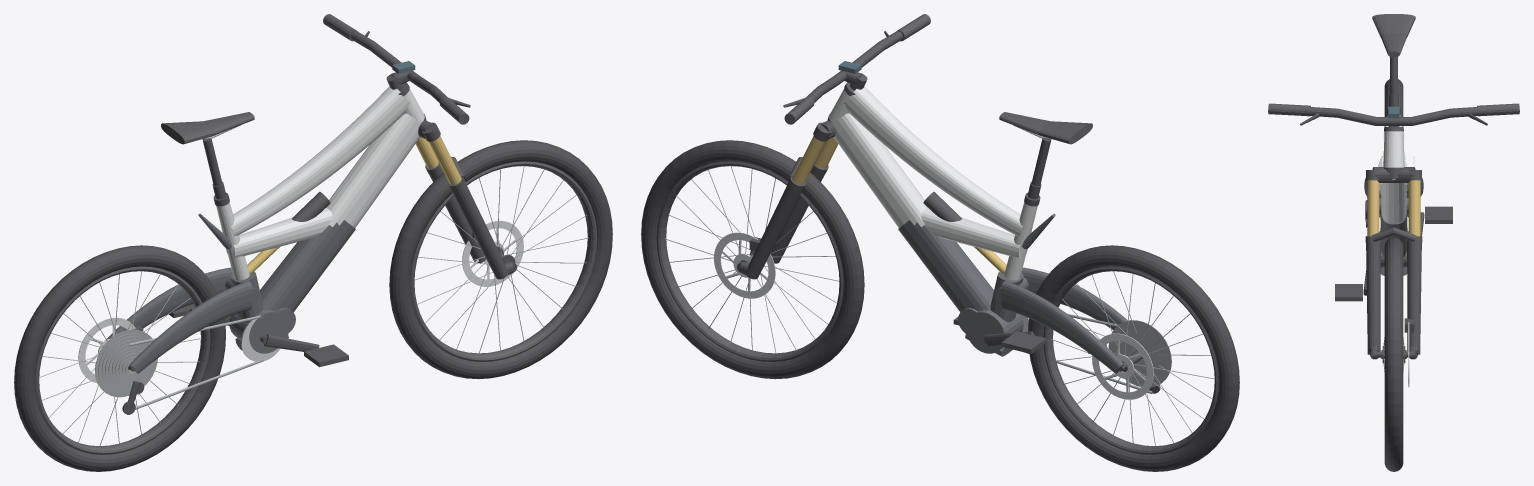
Rendered from ebike-mtb-honda-rn0.glb.
3 views of the same model, side by side, from view 1: azimuth 30°, elevation 25°; view 2: azimuth 150°, elevation 25°; view 3: azimuth 270°, elevation 25° (orthographic). The views are drawn at different scales.
Parts seen in each view (by area): view 1: front_wheel_tire, frame_monocoque_upper, rear_wheel_tire, rear_gullarm_swingarm, frame_downtube_lower_dark, front_wheel_rim, rear_wheel_rim, fork_lowers, drivetrain_cassette, front_wheel_spokes, ebike_motor_housing, rear_wheel_spokes (+9 smaller); view 2: front_wheel_tire, frame_monocoque_upper, rear_wheel_tire, rear_gullarm_swingarm, frame_downtube_lower_dark, front_wheel_rim, rear_wheel_rim, fork_lowers, drivetrain_cassette, front_wheel_spokes, rear_wheel_spokes, ebike_motor_housing (+8 smaller); view 3: front_wheel_tire, fork_lowers, cockpit_riser_bar, fork_stanchions, saddle_shell, drivetrain_crankset, frame_monocoque_upper, cockpit_grips, frame_headtube, fork_crown, frame_downtube_lower_dark, rear_wheel_tire (+1 smaller).
Part boxes in pixels (<box>): front_wheel_tire: <box>389,140,612,379</box>; frame_monocoque_upper: <box>226,86,421,258</box>; rear_wheel_tire: <box>14,245,225,471</box>; rear_gullarm_swingarm: <box>105,267,259,373</box>; frame_downtube_lower_dark: <box>230,220,355,322</box>; front_wheel_rim: <box>410,161,597,361</box>; rear_wheel_rim: <box>35,266,210,454</box>; fork_lowers: <box>425,157,517,279</box>; drivetrain_cassette: <box>95,329,157,397</box>; front_wheel_spokes: <box>415,166,588,354</box>; ebike_motor_housing: <box>229,308,295,353</box>; rear_wheel_spokes: <box>39,271,201,447</box>; front_wheel_tire: <box>641,140,864,379</box>; frame_monocoque_upper: <box>832,86,1027,258</box>; rear_wheel_tire: <box>1028,245,1239,471</box>; rear_gullarm_swingarm: <box>994,267,1127,373</box>; frame_downtube_lower_dark: <box>898,220,1023,322</box>; front_wheel_rim: <box>656,161,843,361</box>; rear_wheel_rim: <box>1043,266,1218,454</box>; fork_lowers: <box>736,157,828,279</box>; drivetrain_cassette: <box>1108,320,1171,387</box>; front_wheel_spokes: <box>664,166,839,353</box>; rear_wheel_spokes: <box>1051,271,1214,446</box>; ebike_motor_housing: <box>958,308,1023,356</box>; front_wheel_tire: <box>1384,237,1403,471</box>; fork_lowers: <box>1365,227,1422,359</box>; cockpit_riser_bar: <box>1268,107,1519,125</box>; fork_stanchions: <box>1367,180,1420,236</box>; saddle_shell: <box>1372,14,1415,56</box>; drivetrain_crankset: <box>1335,206,1452,301</box>; frame_monocoque_upper: <box>1381,126,1406,223</box>; cockpit_grips: <box>1268,103,1519,116</box>; frame_headtube: <box>1383,131,1404,167</box>; fork_crown: <box>1366,167,1421,182</box>; frame_downtube_lower_dark: <box>1380,206,1407,256</box>; rear_wheel_tire: <box>1384,79,1403,126</box>.
Bounding box in the file's own units: 1.97 × 1.06 × 0.7833.
